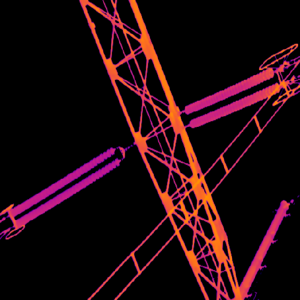insulator: (11, 146, 119, 228), (183, 67, 278, 127)
